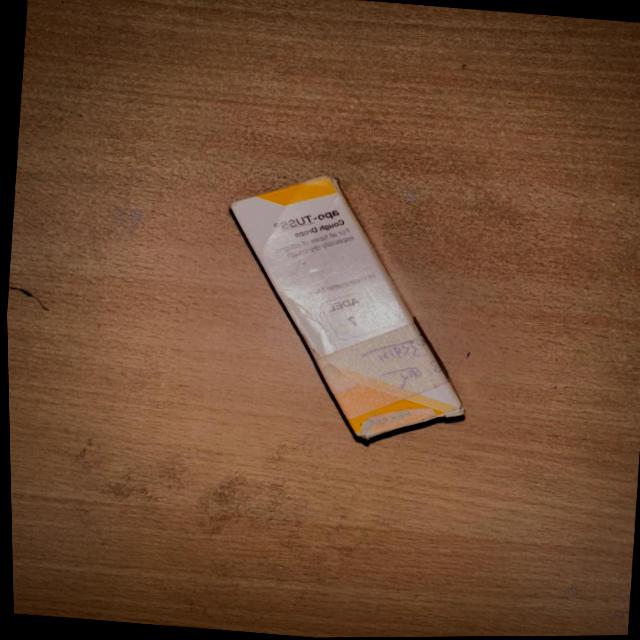medicine: (217, 158, 484, 454)
